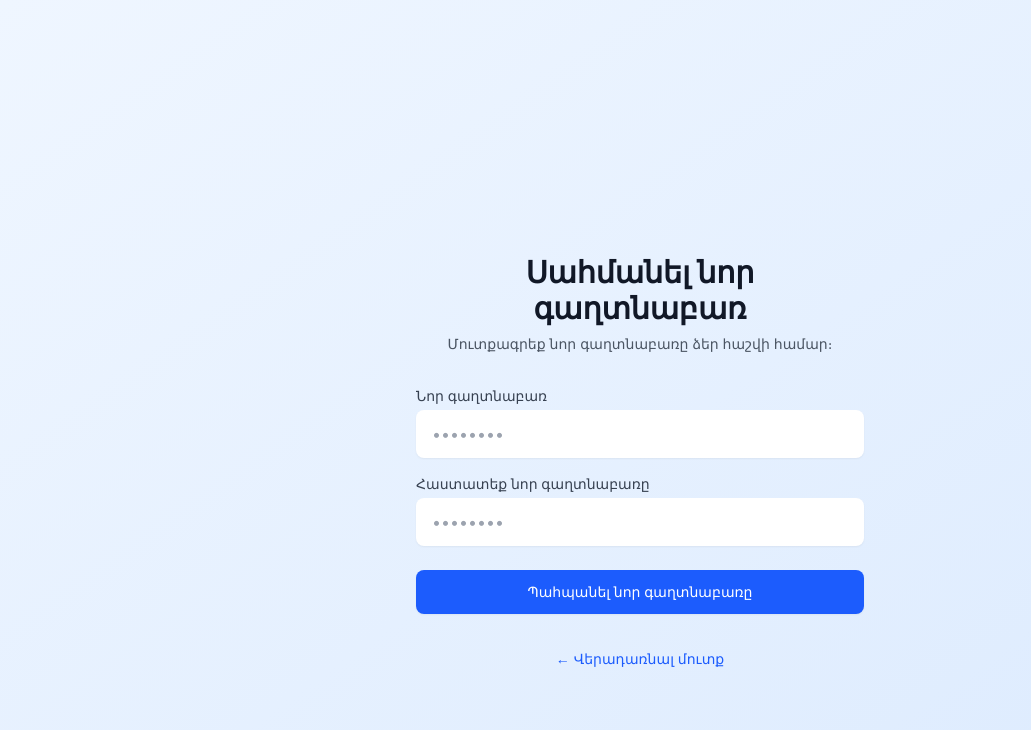
ResetPasswordPage › shows error when token is missing
This screenshot has width=1031, height=730.
In the password field labelled "Նոր գաղտնաբառ": coordinates (640, 434) [416,410,864,458], type "newpassword123"
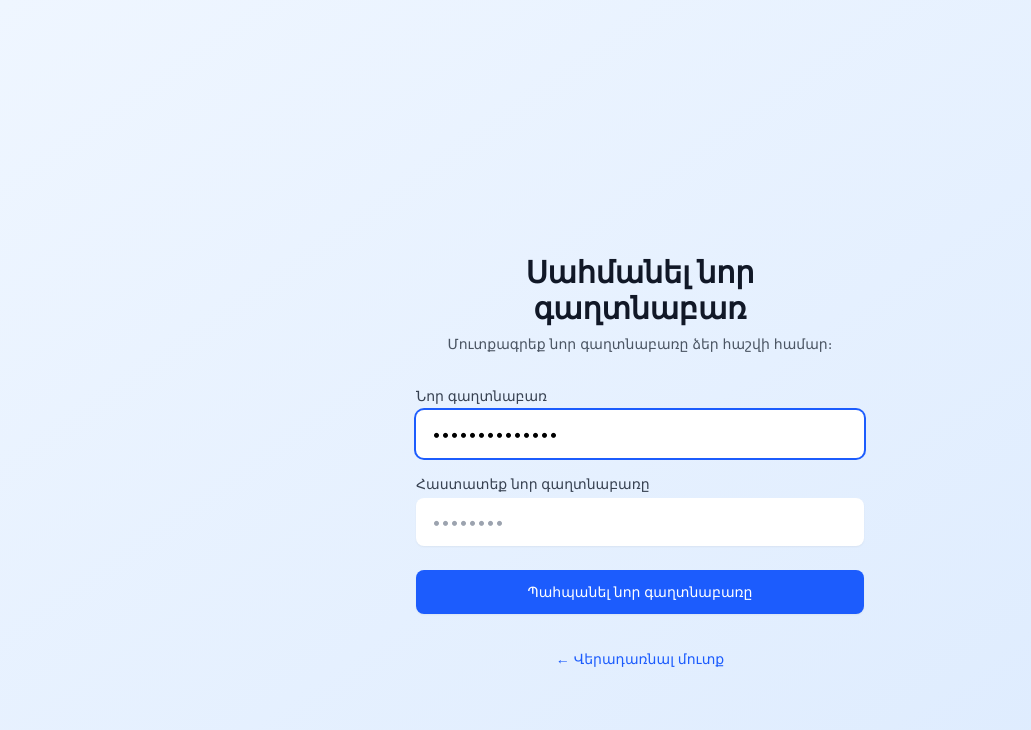
In the password field labelled "Հաստատեք նոր գաղտնաբառը": coordinates (640, 522) [416,498,864,546], type "newpassword123"
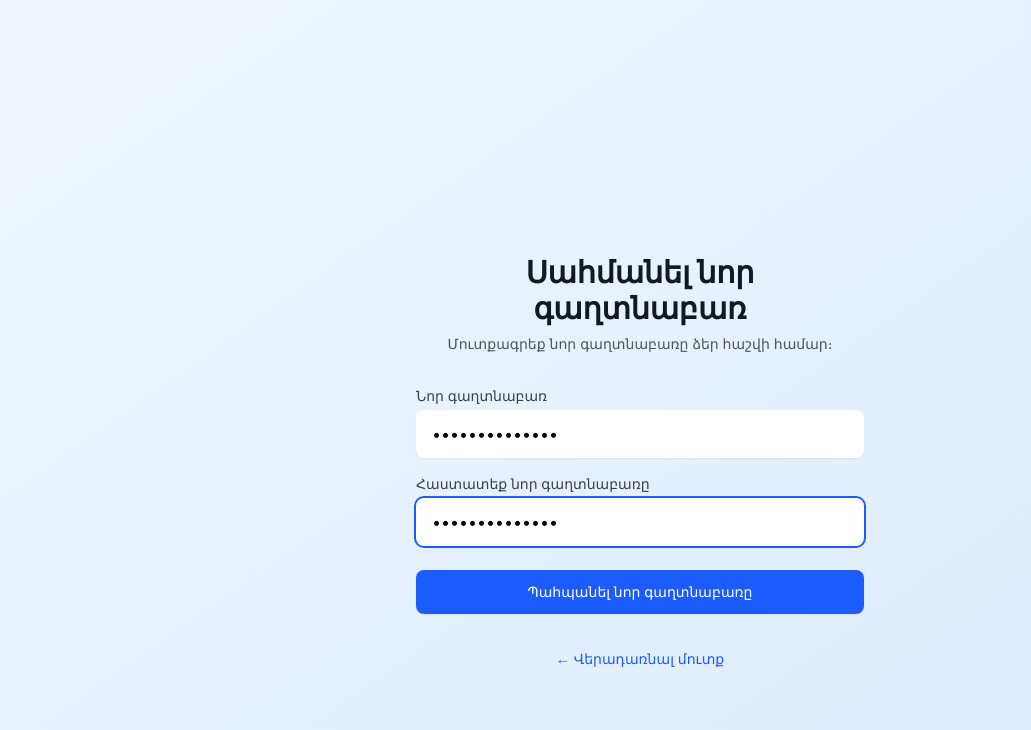
Click the button "Պահպանել նոր գաղտնաբառը": coordinates (640, 592) [416,570,864,614]
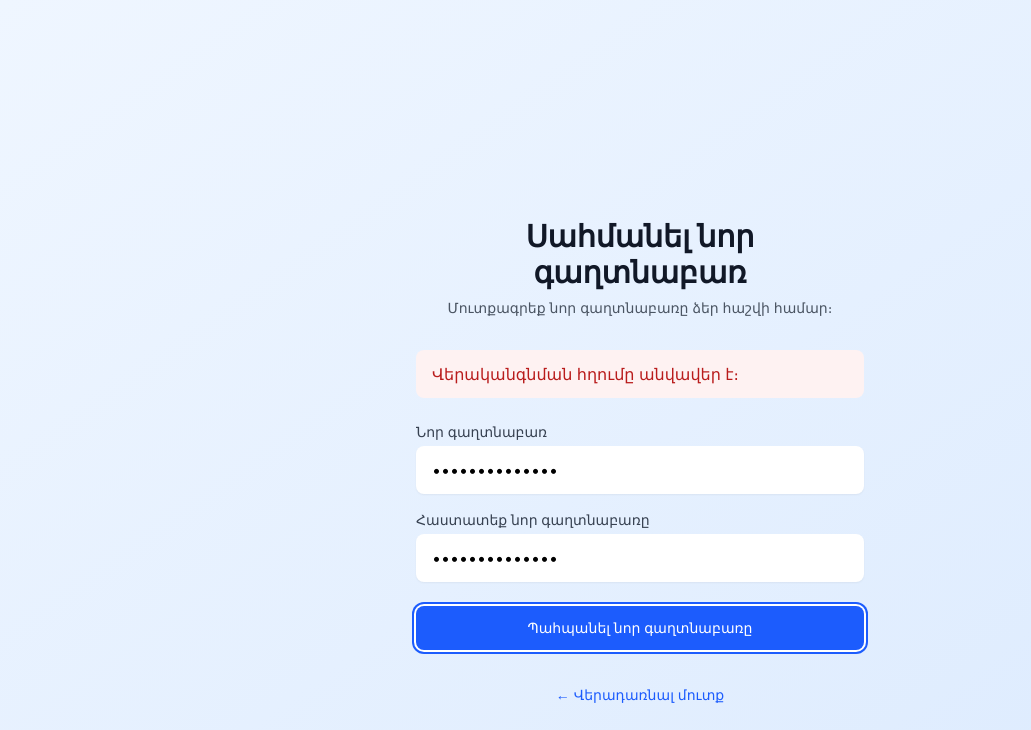
Expected: the text "Վերականգնման հղումը անվավեր է։" is shown, [416,350,864,398]
